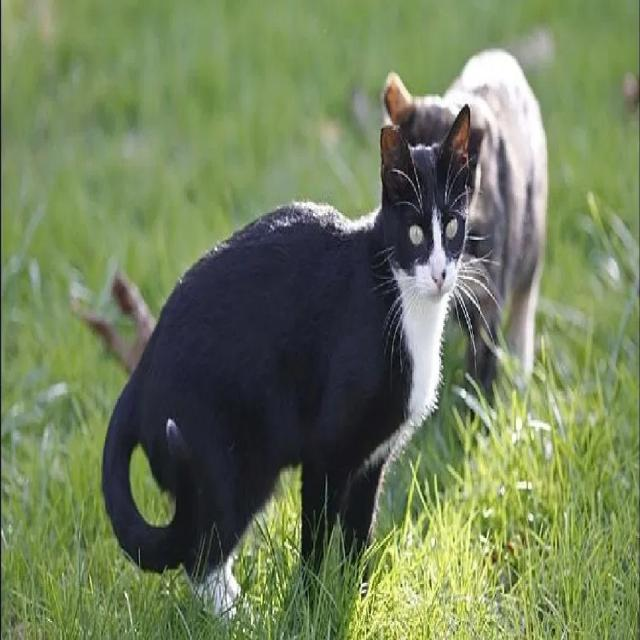cat: (102, 107, 470, 612), (384, 49, 548, 392)
